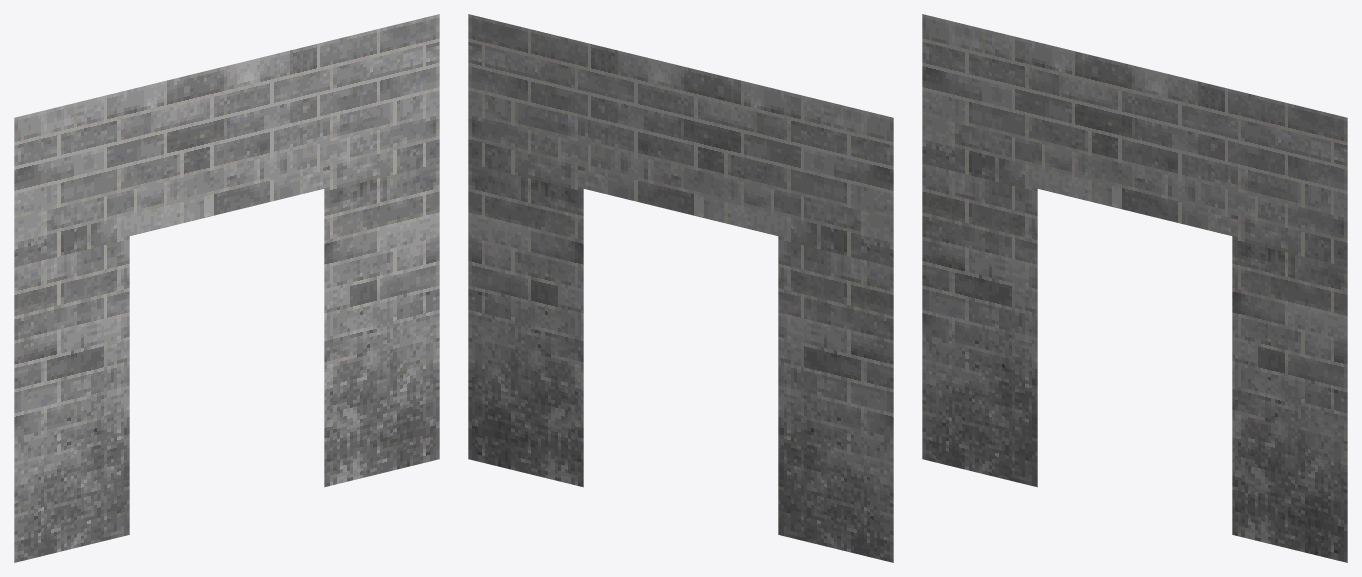
File: wallDoorBrick.glb
3 views of the same model, side by side, from view 1: azimuth 30°, elevation 25°; view 2: azimuth 150°, elevation 25°; view 3: azimuth 330°, elevation 25° (orthographic).
Parts seen in each view (by area): view 1: wallDoorBrick; view 2: wallDoorBrick; view 3: wallDoorBrick.
Part boxes in pixels (x1,y1,x2,y2): wallDoorBrick: (14, 14, 439, 562); wallDoorBrick: (468, 14, 893, 562); wallDoorBrick: (922, 14, 1347, 562).
Size of the model in its own units: 4 by 4 by 1.19e-07.
1 material, 1 textured.
